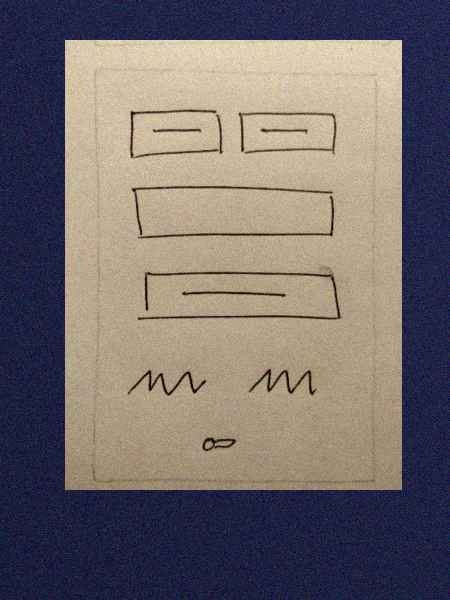button: (133, 265, 353, 326), (119, 102, 235, 163), (239, 106, 347, 160)
switch: (194, 428, 246, 455)
text: (116, 357, 217, 404), (245, 360, 322, 402)
text_input: (125, 183, 345, 244)
